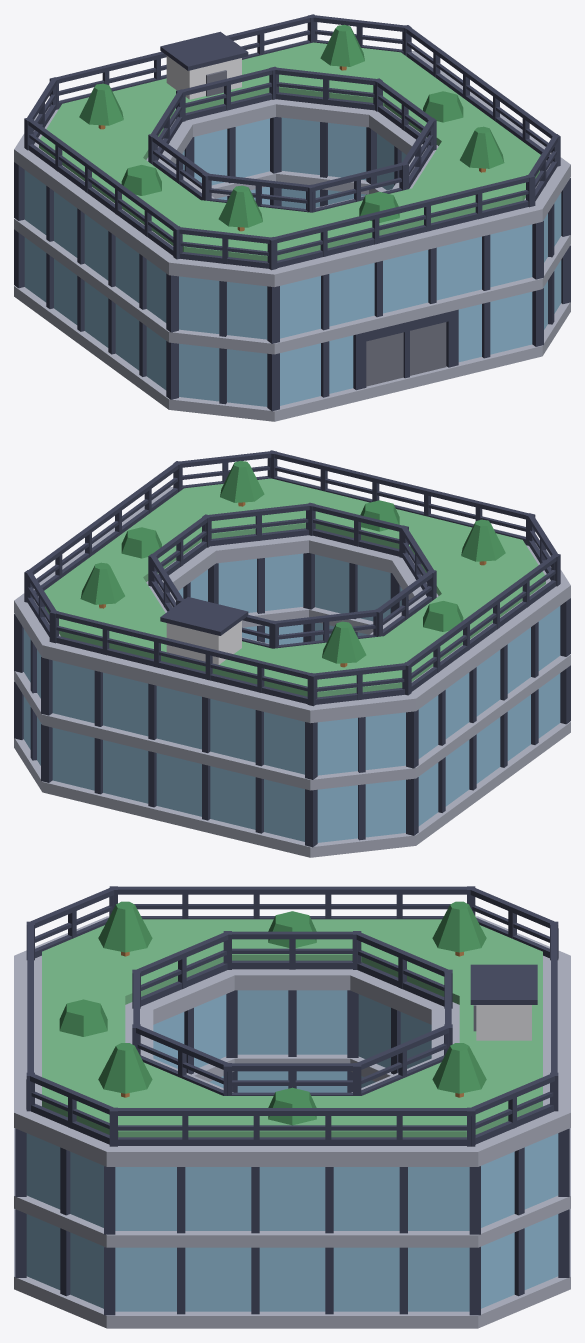
The model's file is office-octagon-2x2-t1-tone-a.glb.
The picture shows the model from 3 angles, top to bottom: view 1: azimuth 30°, elevation 25°; view 2: azimuth 150°, elevation 25°; view 3: azimuth 270°, elevation 25°; orthographic projection. The views are drawn at different scales.
Parts seen in each view (by area): view 1: office-octagon-2x2-t1-tone-a; view 2: office-octagon-2x2-t1-tone-a; view 3: office-octagon-2x2-t1-tone-a.
Part boxes in pixels (x1,y1,x2,y2): office-octagon-2x2-t1-tone-a: (14, 14, 570, 421); office-octagon-2x2-t1-tone-a: (14, 450, 570, 857); office-octagon-2x2-t1-tone-a: (14, 886, 570, 1328).
Bounding box in the file's own units: 2 × 0.93 × 2.
1 material, 1 textured.
